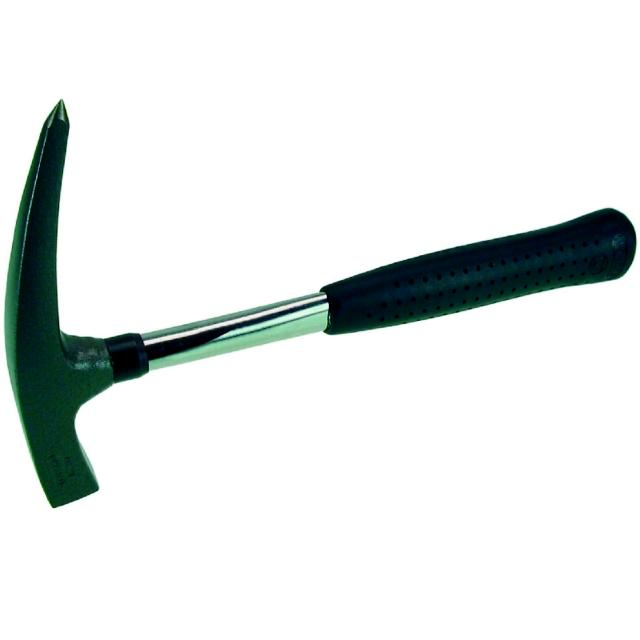hammer: (0, 90, 640, 518)
